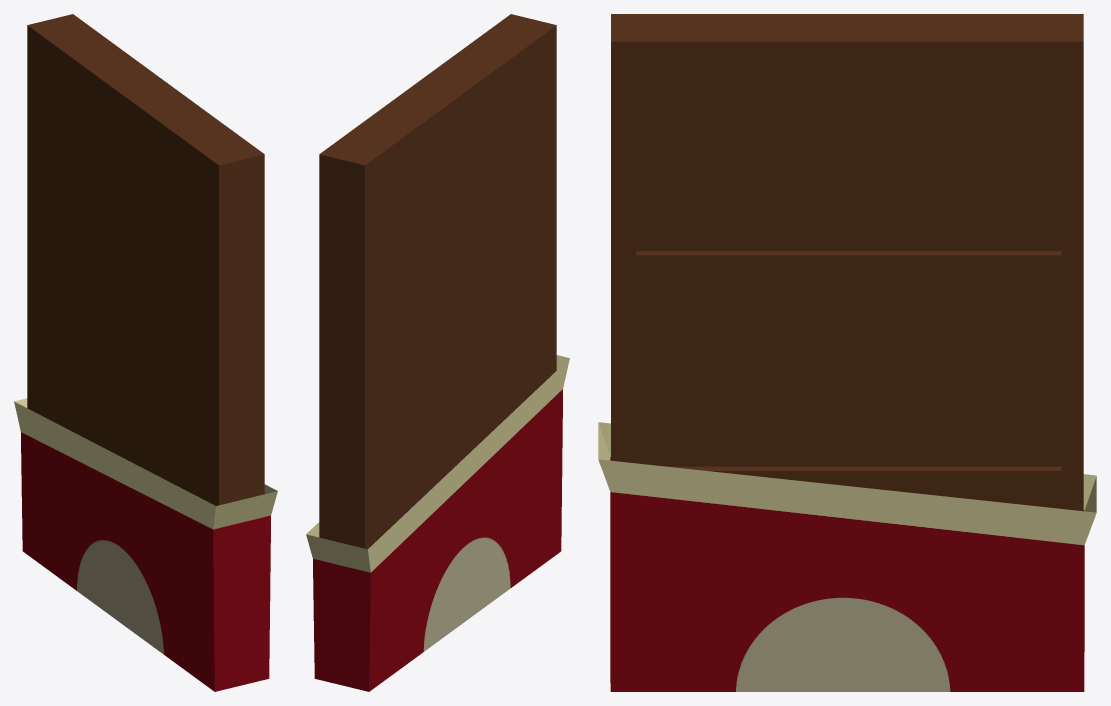
The model's file is choco.fbx.
3 renders of one model, left to right at view 1: azimuth 30°, elevation 25°; view 2: azimuth 150°, elevation 25°; view 3: azimuth 270°, elevation 25°, orthographic. The views are drawn at different scales.
Visible parts, largest first — view 1: Plane, Cube; view 2: Plane, Cube; view 3: Plane, Cube.
Part boxes in pixels (x1,y1,x2,y2): Plane: (27, 14, 264, 505); Cube: (14, 398, 277, 691); Plane: (319, 14, 556, 549); Cube: (306, 355, 569, 691); Plane: (611, 14, 1083, 511); Cube: (598, 422, 1096, 691).
Size of the model in its own units: 28.32 by 230 by 160.
